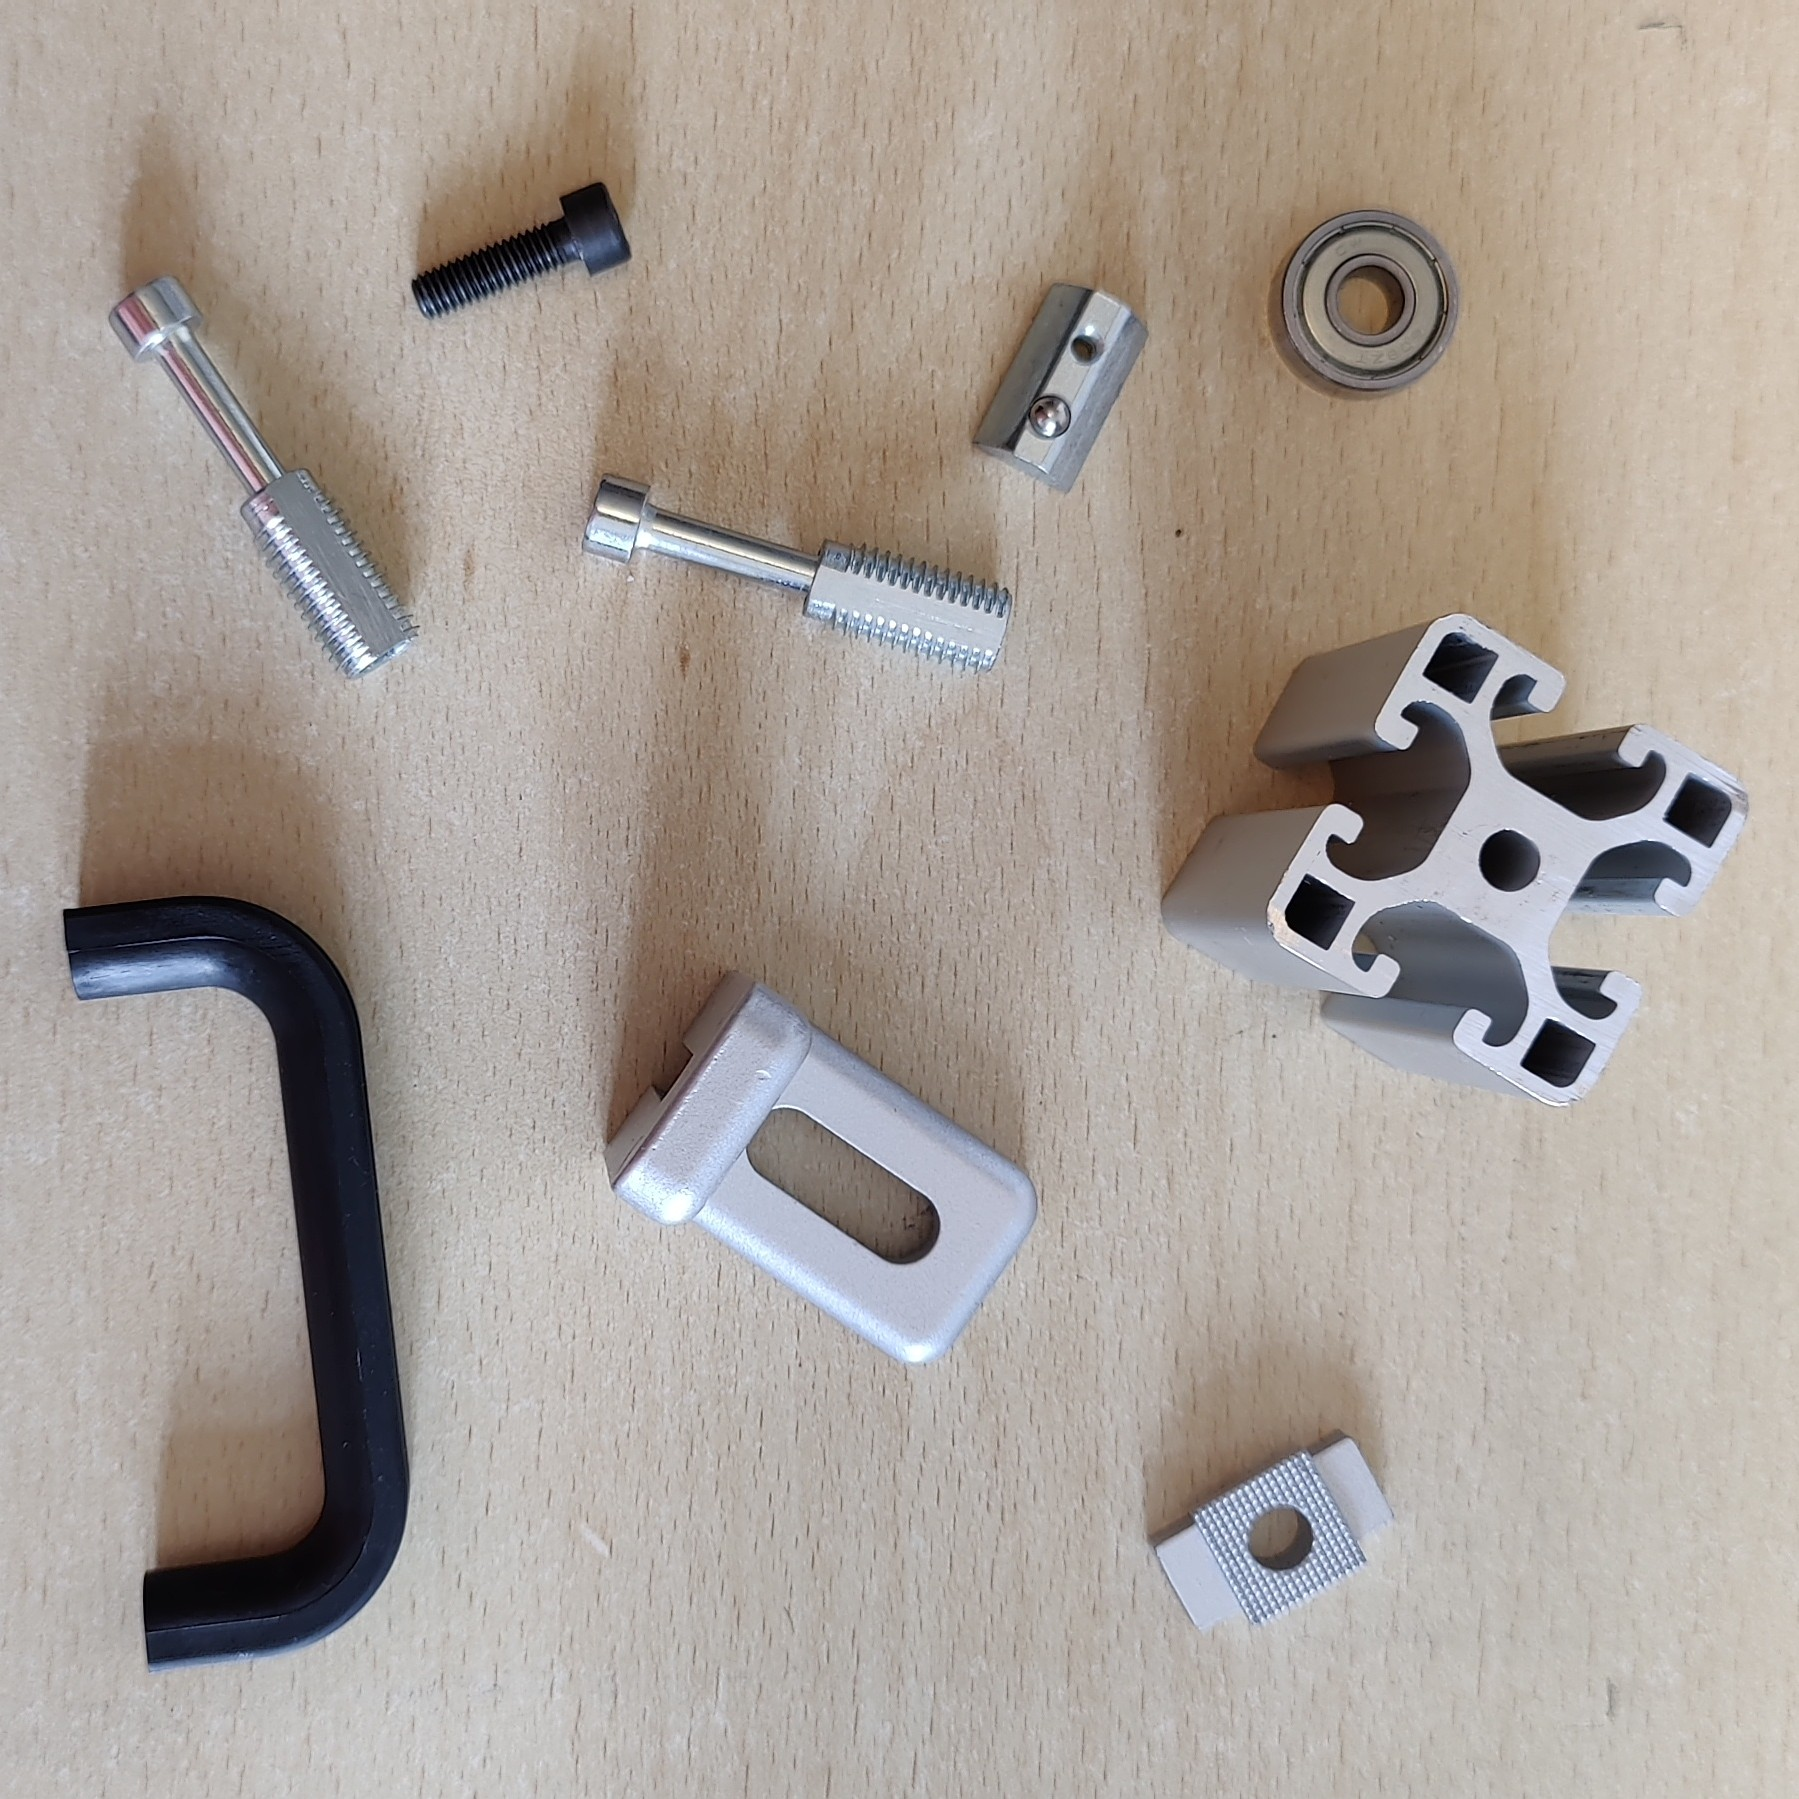Aluminium Extension: (1156, 613, 1750, 1110)
Ball Bearing: (1264, 208, 1461, 404)
Multiwinkel: (600, 967, 1040, 1367)
Pull Handle: (63, 891, 414, 1675)
Shoulder Socket Head Cap Screw: (104, 270, 422, 684), (577, 470, 1015, 679)
Socket Head Cap Screw: (409, 176, 634, 321)
T Nut Square: (1143, 1427, 1399, 1634)
T Spring Nut: (970, 278, 1152, 496)
